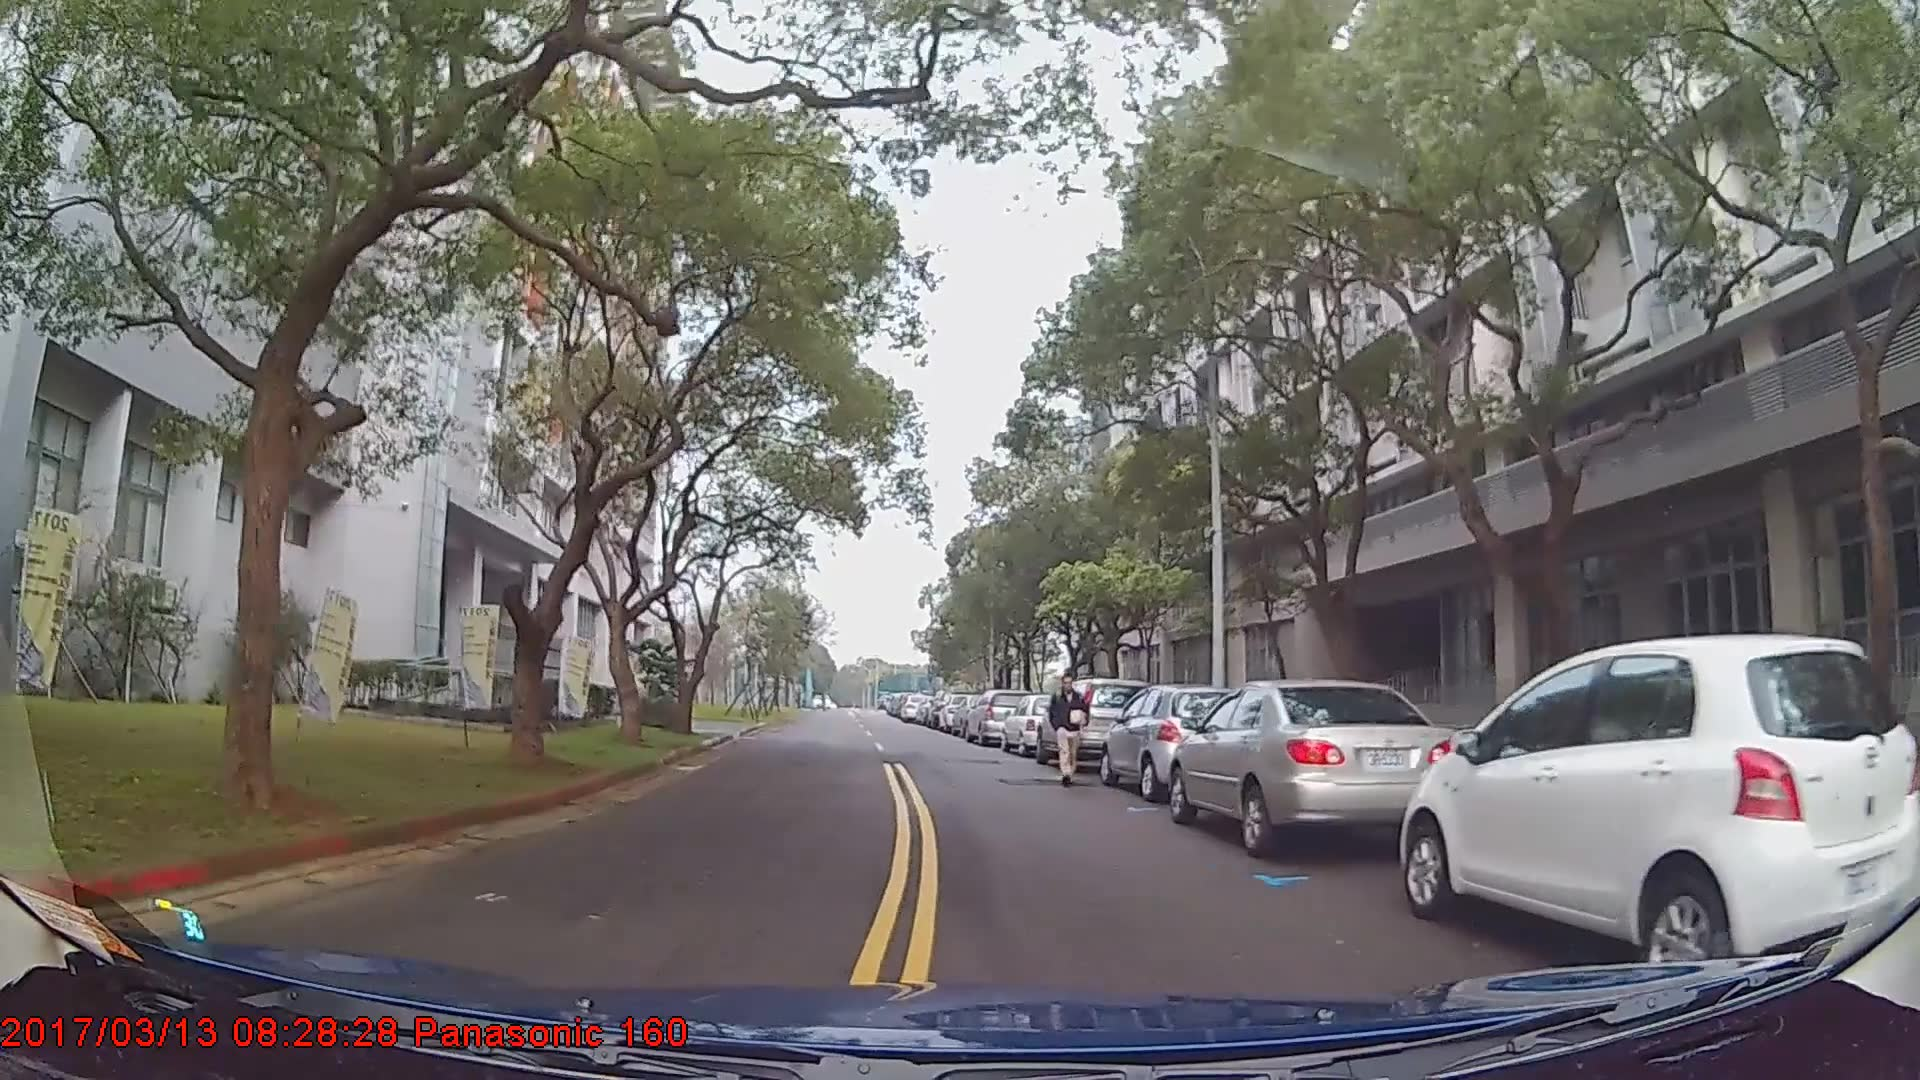pedestrian: (1049, 675, 1091, 788)
vehicle: (1398, 631, 1920, 973), (1167, 675, 1461, 856), (1100, 683, 1253, 803), (1033, 676, 1153, 774), (999, 691, 1069, 756), (963, 687, 1033, 745)
